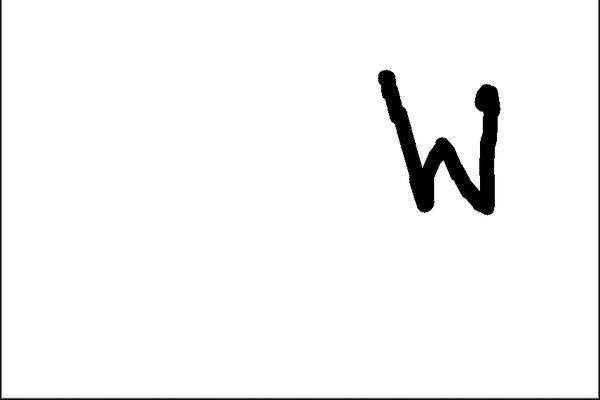w: (355, 50, 518, 238)
